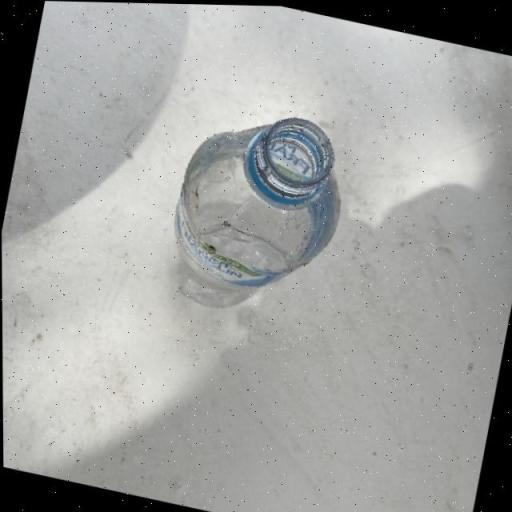plastic: (156, 92, 357, 329)
